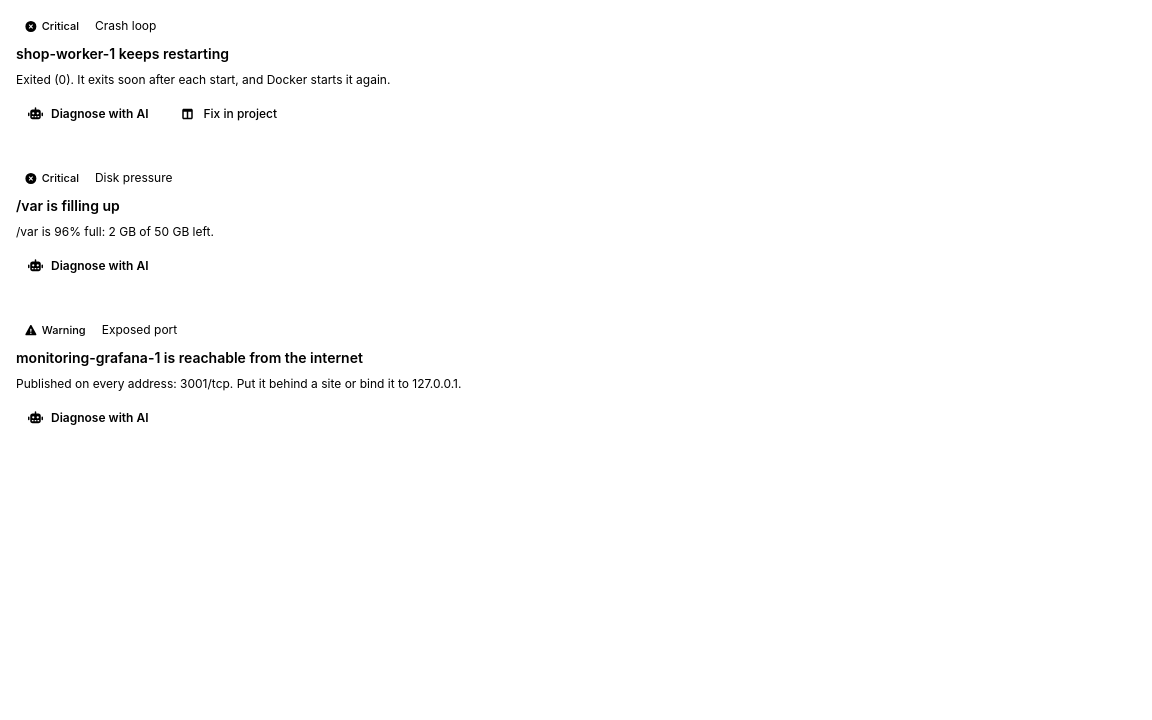
Test: ProblemsFeed › hands a container to its project for Fix in project, but not a disk
Click the button "Fix in project": (229, 114) [168,100,289,128]
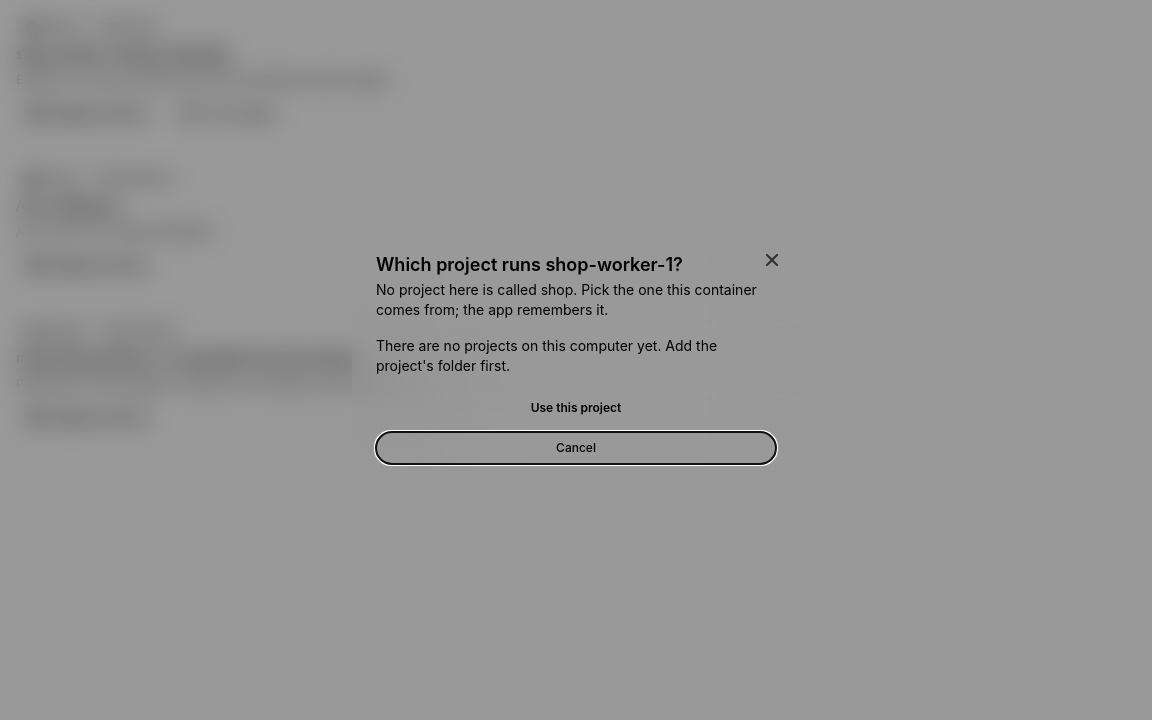
Now the dialog shows "Which project runs shop-worker-1?", box [352,232,800,488]
